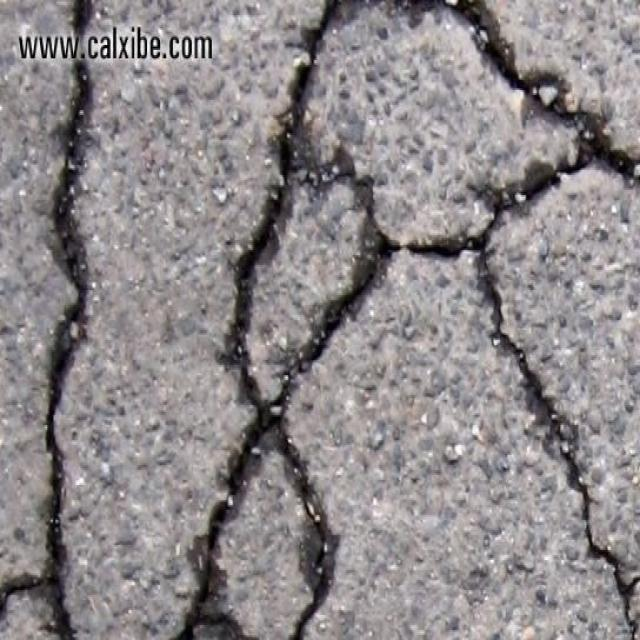Longitudinal: (0, 0, 117, 640)
Turtle-shell patterned: (159, 0, 640, 640)
